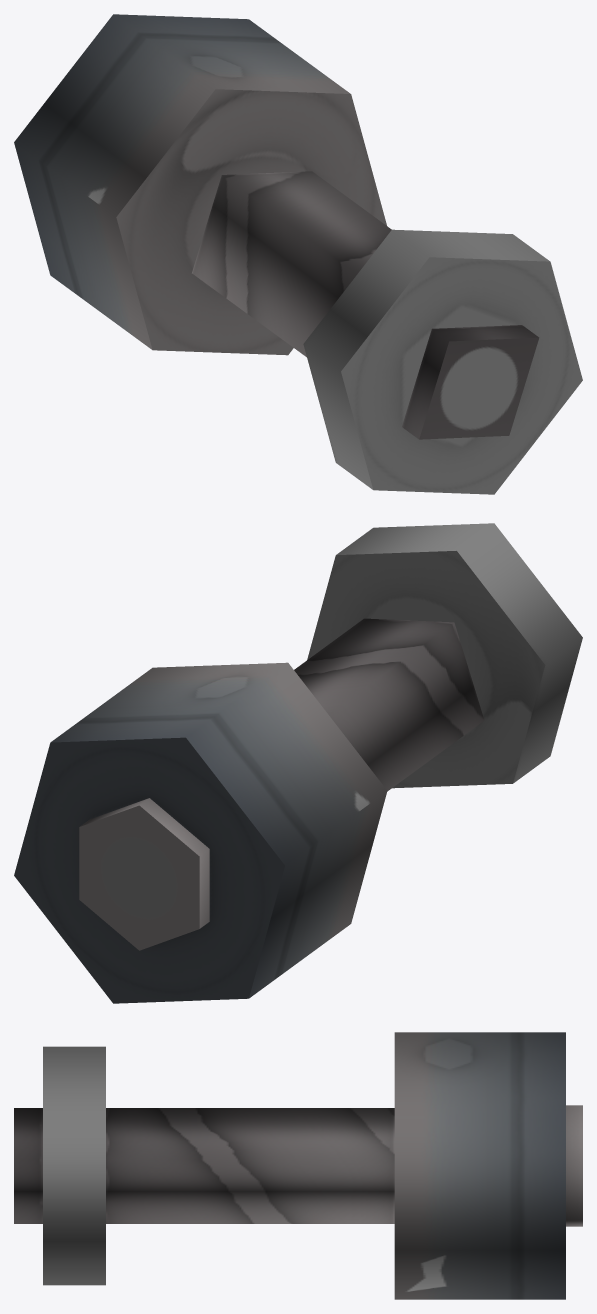
Rendered from obj_interactive_suspensionsport_01_off_lod1.fbx.
The picture shows the model from 3 angles, top to bottom: view 1: azimuth 30°, elevation 25°; view 2: azimuth 150°, elevation 25°; view 3: azimuth 270°, elevation 25°; orthographic projection. The views are drawn at different scales.
Visible parts, largest first — view 1: obj_interactive_suspensionsport_01_off1_lod1; view 2: obj_interactive_suspensionsport_01_off1_lod1; view 3: obj_interactive_suspensionsport_01_off1_lod1.
Part boxes in pixels (bbox=[...]): obj_interactive_suspensionsport_01_off1_lod1: bbox=[14, 14, 582, 494]; obj_interactive_suspensionsport_01_off1_lod1: bbox=[14, 523, 582, 1003]; obj_interactive_suspensionsport_01_off1_lod1: bbox=[14, 1032, 582, 1299].
Bounding box in the file's own units: 1.02 × 1.02 × 2.22.
Materials: 1 (1 with a texture image).
